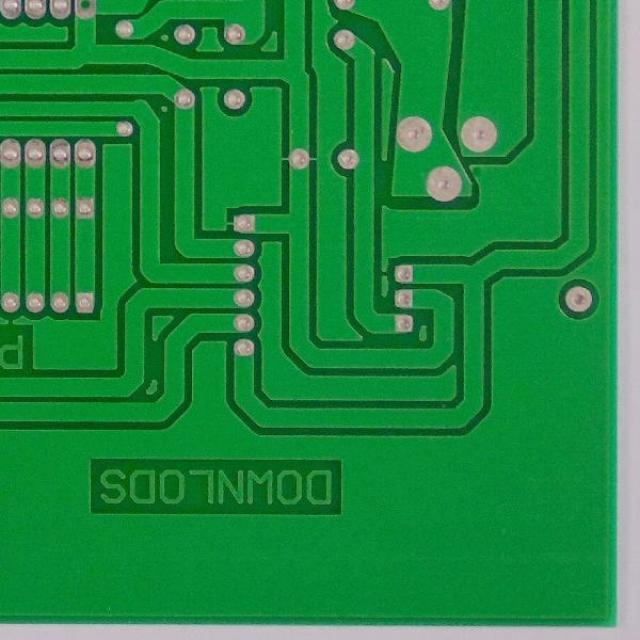missing_hole: (74, 1, 100, 18)
